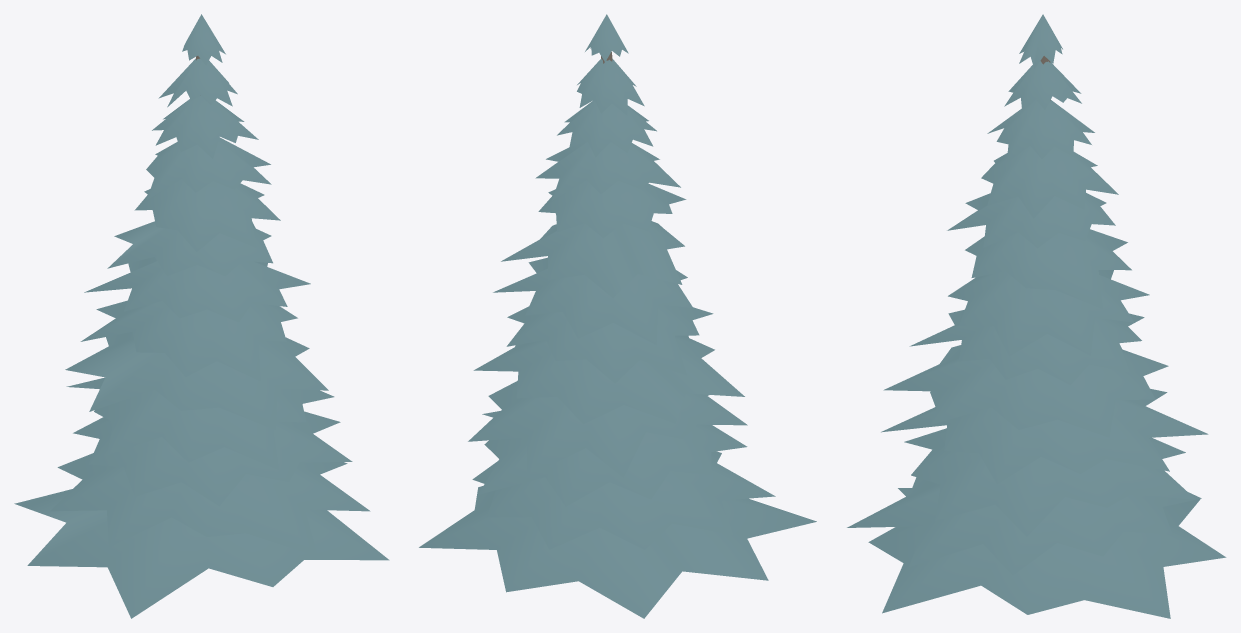
Rendered from Blender_BlueSpruce_1_Far.glb.
3 renders of one model, left to right at view 1: azimuth 30°, elevation 25°; view 2: azimuth 150°, elevation 25°; view 3: azimuth 270°, elevation 25°, orthographic. The views are drawn at different scales.
Parts seen in each view (by area): view 1: Blender_BlueSpruce_1_Far; view 2: Blender_BlueSpruce_1_Far; view 3: Blender_BlueSpruce_1_Far.
Part boxes in pixels (x1,y1,x2,y2): Blender_BlueSpruce_1_Far: [14, 14, 389, 618]; Blender_BlueSpruce_1_Far: [419, 14, 816, 618]; Blender_BlueSpruce_1_Far: [847, 14, 1226, 618].
Size of the model in its own units: 10.89 by 17.89 by 11.3.
